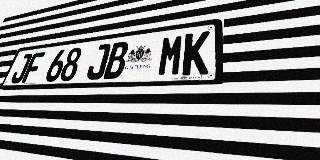6: (44, 49, 69, 82)
8: (58, 47, 84, 81)
B: (103, 41, 130, 79)
F: (21, 52, 45, 83)
J: (85, 43, 112, 80), (9, 53, 33, 84)
K: (182, 31, 210, 75)
M: (157, 34, 185, 77)
